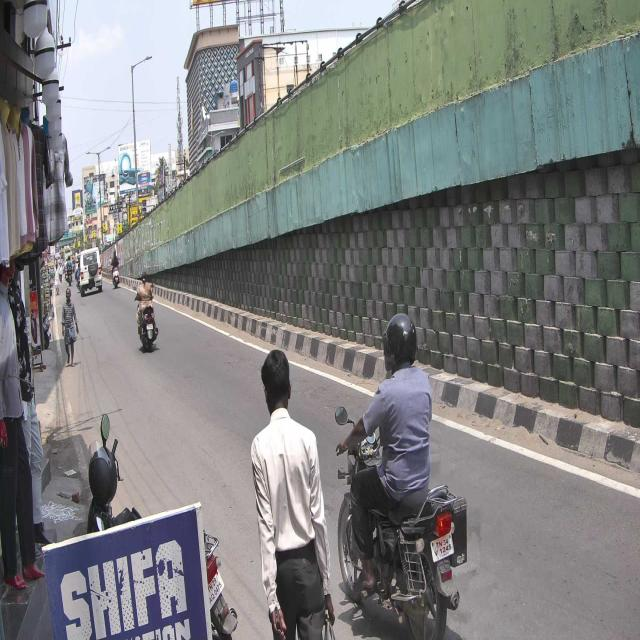single_rider: (334, 309, 468, 640)
